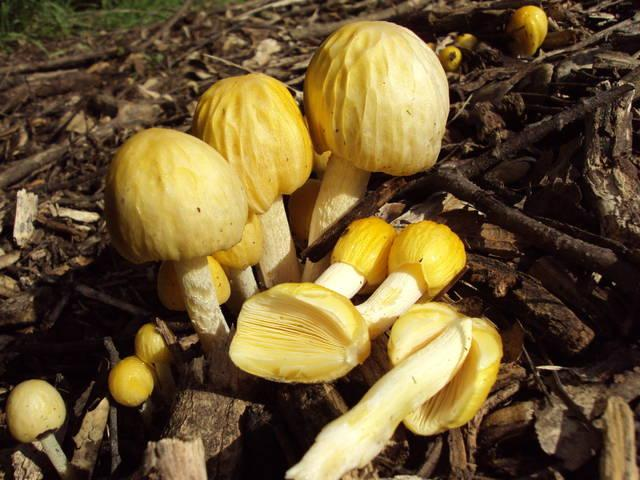edible_mushroom: (102, 18, 504, 478), (103, 125, 248, 350)
